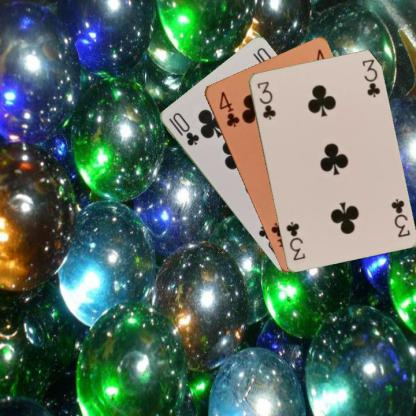10c: (166, 110, 200, 148)
3c: (254, 78, 277, 121), (388, 196, 411, 238)
4c: (216, 89, 241, 128)
